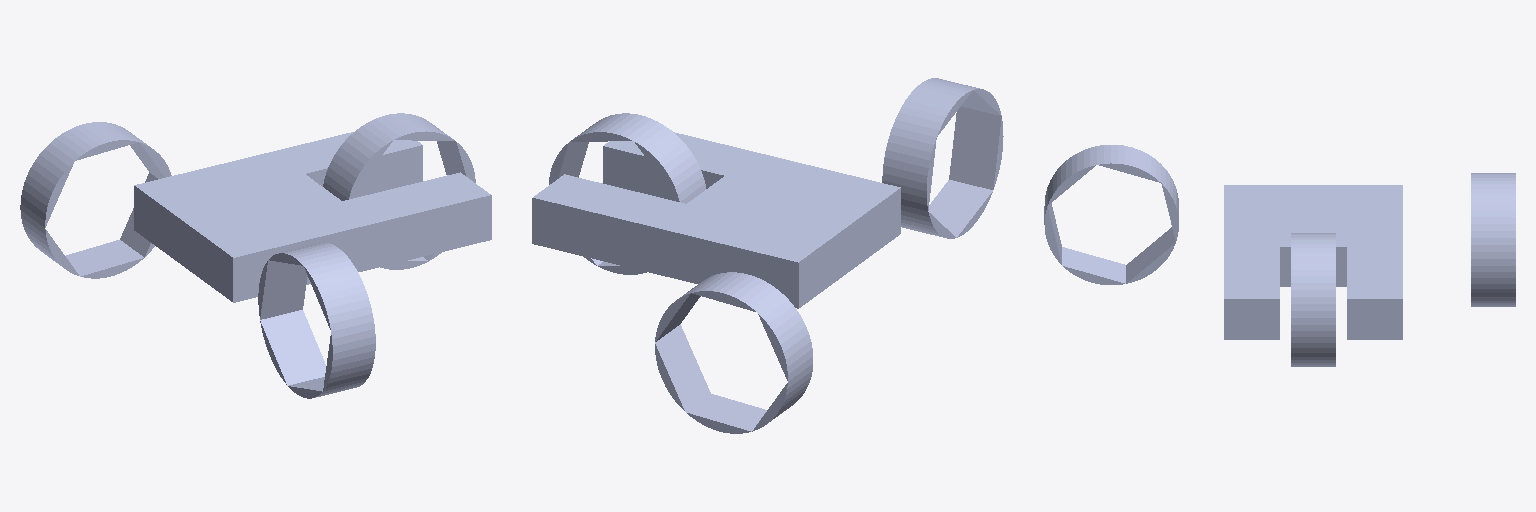
The robot description file, URDF, robot "tricycle":
<?xml version="1.0" encoding="utf-8"?>
<!-- This URDF was automatically created by SolidWorks to URDF Exporter! Originally created by [author] ([email redacted]) 
     Commit Version: 1.5.0-0-g9aa0fdb  Build Version: 1.5.7004.21443
     For more information, please see http://wiki.ros.org/sw_urdf_exporter -->
<robot
  name="tricycle">
  <link
    name="base_link">
    <inertial>
      <origin
        xyz="-0.0033726 8.74E-19 -9.1444E-19"
        rpy="0 0 0" />
      <mass
        value="0.019875" />
      <inertia
        ixx="3.2883E-06"
        ixy="-2.6326E-22"
        ixz="8.5251E-23"
        iyy="5.7903E-06"
        iyz="-1.683E-23"
        izz="8.7474E-06" />
    </inertial>
    <visual>
      <origin
        xyz="0 0 0"
        rpy="0 0 0" />
      <geometry>
        <mesh
          filename="package://tricycle/meshes/base_link.STL" />
      </geometry>
      <material
        name="">
        <color
          rgba="0.79216 0.81961 0.93333 1" />
      </material>
    </visual>
    <collision>
      <origin
        xyz="0 0 0"
        rpy="0 0 0" />
      <geometry>
        <mesh
          filename="package://tricycle/meshes/base_link.STL" />
      </geometry>
    </collision>
  </link>
  <link
    name="front_wheel_link">
    <inertial>
      <origin
        xyz="-0.005 1.5073E-17 -6.9389E-18"
        rpy="0 0 0" />
      <mass
        value="0.0012229" />
      <inertia
        ixx="1.4325E-08"
        ixy="6.4934E-25"
        ixz="4.9199E-24"
        iyy="1.7354E-08"
        iyz="5.8937E-24"
        izz="1.7354E-08" />
    </inertial>
    <visual>
      <origin
        xyz="0 0 0"
        rpy="0 0 0" />
      <geometry>
        <mesh
          filename="package://tricycle/meshes/front_wheel_link.STL" />
      </geometry>
      <material
        name="">
        <color
          rgba="0.79216 0.81961 0.93333 1" />
      </material>
    </visual>
    <collision>
      <origin
        xyz="0 0 0"
        rpy="0 0 0" />
      <geometry>
        <mesh
          filename="package://tricycle/meshes/front_wheel_link.STL" />
      </geometry>
    </collision>
  </link>
  <joint
    name="front_wheel_joint"
    type="continuous">
    <origin
      xyz="0.02 -0.005 0"
      rpy="1.5708 0 -1.5708" />
    <parent
      link="base_link" />
    <child
      link="front_wheel_link" />
    <axis
      xyz="-1 0 0" />
    <safety_controller
      k_velocity="0" />
  </joint>
  <link
    name="rear_right_wheel_link">
    <inertial>
      <origin
        xyz="-0.005 1.4199E-17 0"
        rpy="0 0 0" />
      <mass
        value="0.0012229" />
      <inertia
        ixx="1.4325E-08"
        ixy="-6.575E-25"
        ixz="-1.7066E-24"
        iyy="1.7354E-08"
        iyz="1.675E-23"
        izz="1.7354E-08" />
    </inertial>
    <visual>
      <origin
        xyz="0 0 0"
        rpy="0 0 0" />
      <geometry>
        <mesh
          filename="package://tricycle/meshes/rear_right_wheel_link.STL" />
      </geometry>
      <material
        name="">
        <color
          rgba="0.79216 0.81961 0.93333 1" />
      </material>
    </visual>
    <collision>
      <origin
        xyz="0 0 0"
        rpy="0 0 0" />
      <geometry>
        <mesh
          filename="package://tricycle/meshes/rear_right_wheel_link.STL" />
      </geometry>
    </collision>
  </link>
  <joint
    name="rear_right_wheel_joint"
    type="continuous">
    <origin
      xyz="-0.02 -0.03 0"
      rpy="1.5708 0 -1.5708" />
    <parent
      link="base_link" />
    <child
      link="rear_right_wheel_link" />
    <axis
      xyz="-1 0 0" />
    <safety_controller
      k_velocity="0" />
  </joint>
  <link
    name="rear_left_wheel_link">
    <inertial>
      <origin
        xyz="-0.005 3.0191E-18 -1.3878E-17"
        rpy="0 0 0" />
      <mass
        value="0.0012229" />
      <inertia
        ixx="1.4325E-08"
        ixy="-2.2512E-24"
        ixz="-1.8331E-25"
        iyy="1.7354E-08"
        iyz="-4.1101E-23"
        izz="1.7354E-08" />
    </inertial>
    <visual>
      <origin
        xyz="0 0 0"
        rpy="0 0 0" />
      <geometry>
        <mesh
          filename="package://tricycle/meshes/rear_left_wheel_link.STL" />
      </geometry>
      <material
        name="">
        <color
          rgba="0.79216 0.81961 0.93333 1" />
      </material>
    </visual>
    <collision>
      <origin
        xyz="0 0 0"
        rpy="0 0 0" />
      <geometry>
        <mesh
          filename="package://tricycle/meshes/rear_left_wheel_link.STL" />
      </geometry>
    </collision>
  </link>
  <joint
    name="rear_left_wheel_joint"
    type="continuous">
    <origin
      xyz="-0.02 0.03 0"
      rpy="1.5708 0 1.5708" />
    <parent
      link="base_link" />
    <child
      link="rear_left_wheel_link" />
    <axis
      xyz="1 0 0" />
    <safety_controller
      k_velocity="0" />
  </joint>
</robot>

--- Facts derived from the render (not from the file) ---
The picture shows the robot from 3 angles, left to right: view 1: azimuth 30°, elevation 25°; view 2: azimuth 150°, elevation 25°; view 3: azimuth 270°, elevation 25°; orthographic projection.
Model tricycle with 4 links and 3 joints (3 continuous), rooted at base_link, posed all joints at 0.
Links seen in each view (by area): view 1: base_link, rear_right_wheel_link, rear_left_wheel_link, front_wheel_link; view 2: base_link, rear_right_wheel_link, rear_left_wheel_link, front_wheel_link; view 3: base_link, rear_right_wheel_link, front_wheel_link, rear_left_wheel_link.
Boxes of the visible links, x1,y1,x2,y2 form: base_link: [134, 132, 491, 302]; rear_right_wheel_link: [258, 243, 375, 398]; rear_left_wheel_link: [20, 122, 171, 278]; front_wheel_link: [323, 113, 475, 269]; base_link: [532, 132, 900, 308]; rear_right_wheel_link: [882, 78, 1003, 238]; rear_left_wheel_link: [655, 272, 812, 433]; front_wheel_link: [549, 113, 705, 274]; base_link: [1224, 185, 1402, 339]; rear_right_wheel_link: [1044, 145, 1178, 284]; front_wheel_link: [1291, 233, 1335, 366]; rear_left_wheel_link: [1471, 173, 1515, 306].
Bounding box of the posed robot: 0.077 × 0.105 × 0.0371 m (x, y, z).
4 mesh visuals loaded from 4 distinct referenced files (4 binary STL).